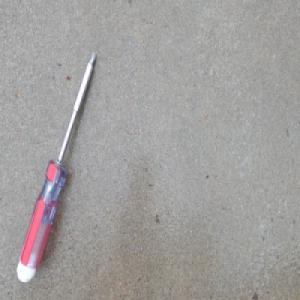Screwdriver: (14, 49, 97, 284)
